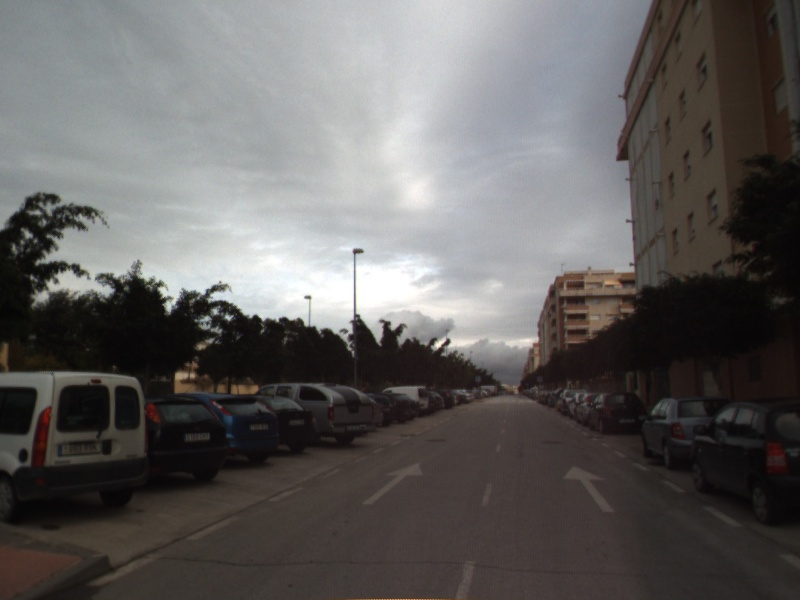STRAIGHT: (360, 460, 425, 506), (560, 463, 617, 514)
